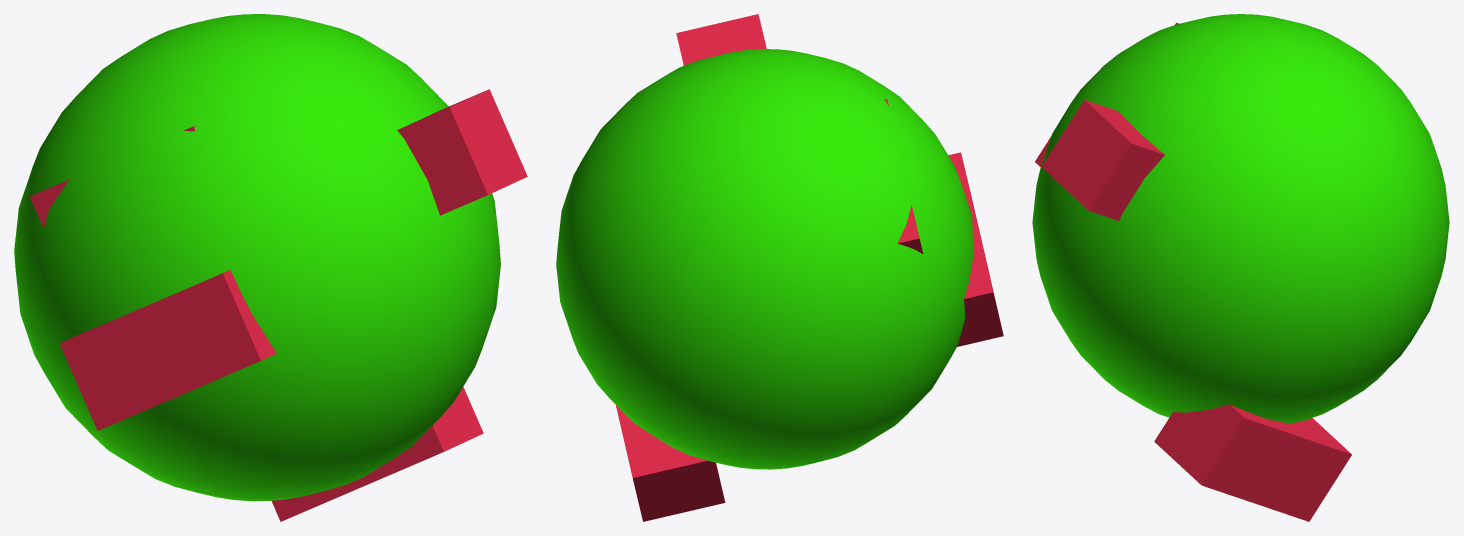
File: earth.glb
The picture shows the model from 3 angles, left to right: view 1: azimuth 30°, elevation 25°; view 2: azimuth 150°, elevation 25°; view 3: azimuth 270°, elevation 25°; orthographic projection. The views are drawn at different scales.
Parts seen in each view (by area): view 1: earth, rocks.006, rocks.002, rocks.003, rocks.005; view 2: earth, rocks.003, rocks.006, rocks.002, rocks.005; view 3: earth, rocks.003, rocks.002.
Part boxes in pixels (x1,y1,x2,y2): earth: (14, 14, 500, 501); rocks.006: (59, 270, 276, 430); rocks.002: (397, 89, 527, 215); rocks.003: (271, 387, 483, 521); rocks.005: (30, 126, 194, 228); earth: (556, 49, 973, 469); rocks.003: (616, 405, 725, 521); rocks.006: (948, 152, 1003, 346); rocks.002: (676, 14, 766, 65); rocks.005: (884, 98, 923, 253); earth: (1032, 14, 1449, 423); rocks.003: (1154, 404, 1351, 521); rocks.002: (1041, 100, 1164, 220).
Bounding box in the file's own units: 209 × 236 × 200.
